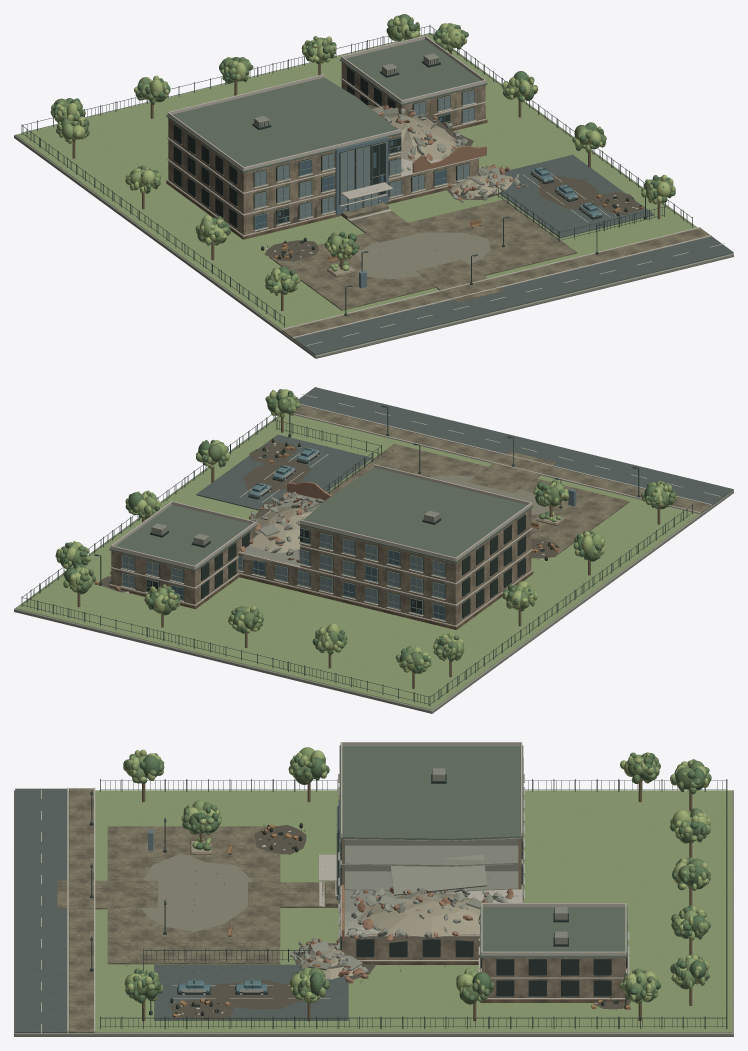
File: police-abandoned.glb
3 views of the same model, one above another, from view 1: azimuth 30°, elevation 25°; view 2: azimuth 150°, elevation 25°; view 3: azimuth 270°, elevation 25° (orthographic). The views are drawn at different scales.
Visible parts, largest first — view 1: 材质批次_grass, 材质批次_plaza_paving, 材质批次_sage_metal_roof, 材质批次_asphalt, 材质批次_limestone, 材质批次_warm_cream_trim, 材质批次_poi_service_concrete, 材质批次_recess_shadow, 材质批次_street_metal, 材质批次_abandoned_dust, 材质批次_leaf_2, 材质批次_poi_window_lit (+11 smaller); view 2: 材质批次_grass, 材质批次_sage_metal_roof, 材质批次_asphalt, 材质批次_limestone, 材质批次_plaza_paving, 材质批次_warm_cream_trim, 材质批次_poi_service_concrete, 材质批次_street_metal, 材质批次_recess_shadow, 材质批次_leaf_1, 材质批次_leaf_2, 材质批次_poi_window_lit (+10 smaller); view 3: 材质批次_grass, 材质批次_plaza_paving, 材质批次_sage_metal_roof, 材质批次_asphalt, 材质批次_poi_service_concrete, 材质批次_warm_cream_trim, 材质批次_street_metal, 材质批次_abandoned_dust, 材质批次_limestone, 材质批次_recess_shadow, 材质批次_leaf_1, 材质批次_abandoned_soot_damp (+9 smaller).
Part boxes in pixels (box(x1,y1,x2,y2)): 材质批次_grass: box(16, 33, 696, 329); 材质批次_plaza_paving: box(269, 199, 709, 338); 材质批次_sage_metal_roof: box(166, 39, 487, 172); 材质批次_asphalt: box(293, 154, 733, 355); 材质批次_limestone: box(168, 62, 485, 276); 材质批次_warm_cream_trim: box(167, 35, 711, 338); 材质批次_poi_service_concrete: box(14, 33, 733, 358); 材质批次_recess_shadow: box(173, 61, 633, 254); 材质批次_street_metal: box(21, 25, 692, 327); 材质批次_abandoned_dust: box(356, 232, 490, 279); 材质批次_leaf_2: box(51, 15, 675, 292); 材质批次_poi_window_lit: box(255, 90, 474, 218); 材质批次_grass: box(16, 413, 698, 709); 材质批次_sage_metal_roof: box(109, 467, 533, 570); 材质批次_asphalt: box(196, 387, 733, 510); 材质批次_limestone: box(111, 494, 565, 625); 材质批次_plaza_paving: box(295, 405, 710, 554); 材质批次_warm_cream_trim: box(110, 404, 711, 626); 材质批次_poi_service_concrete: box(14, 415, 733, 713); 材质批次_street_metal: box(21, 405, 692, 706); 材质批次_recess_shadow: box(121, 449, 538, 620); 材质批次_leaf_1: box(56, 389, 675, 672); 材质批次_leaf_2: box(55, 389, 677, 672); 材质批次_poi_window_lit: box(122, 534, 444, 608); 材质批次_grass: box(68, 790, 732, 1032); 材质批次_plaza_paving: box(57, 788, 338, 1032); 材质批次_sage_metal_roof: box(339, 745, 627, 957); 材质批次_asphalt: box(15, 788, 348, 1032); 材质批次_poi_service_concrete: box(14, 768, 733, 1036); 材质批次_warm_cream_trim: box(67, 742, 629, 1032); 材质批次_street_metal: box(90, 770, 727, 1028); 材质批次_abandoned_dust: box(140, 853, 252, 931); 材质批次_limestone: box(190, 838, 625, 997); 材质批次_recess_shadow: box(177, 774, 626, 1019); 材质批次_leaf_1: box(112, 752, 711, 1020); 材质批次_abandoned_soot_damp: box(169, 825, 630, 1020).
Size of the model in its own units: 80.5 by 14.55 by 100.
Materials: 33 (5 with a texture image).
